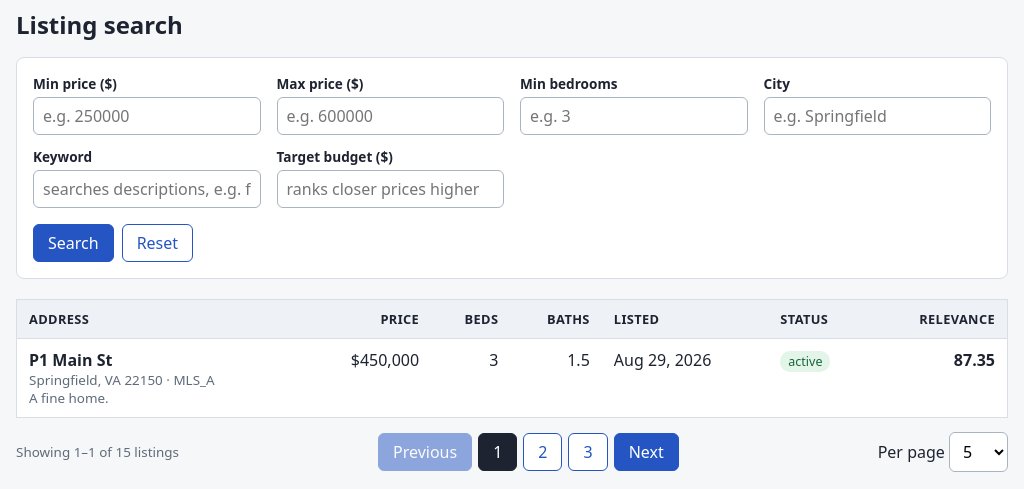
Test: App › jumps straight to a numbered page
Expected: the text "P1 Main St" is shown, [29,349,112,371]
What coordinates should you click on to do the following:
click the button named "Page 3"
I would click on:
 (588, 452)
Its box is [568,433,608,471].
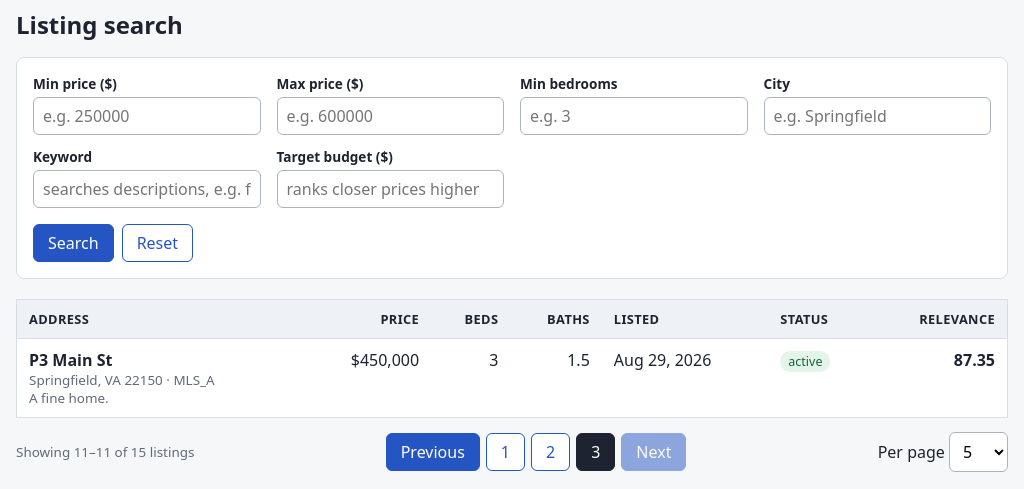
Expected: the text "P3 Main St" is shown, [29,349,112,371]
